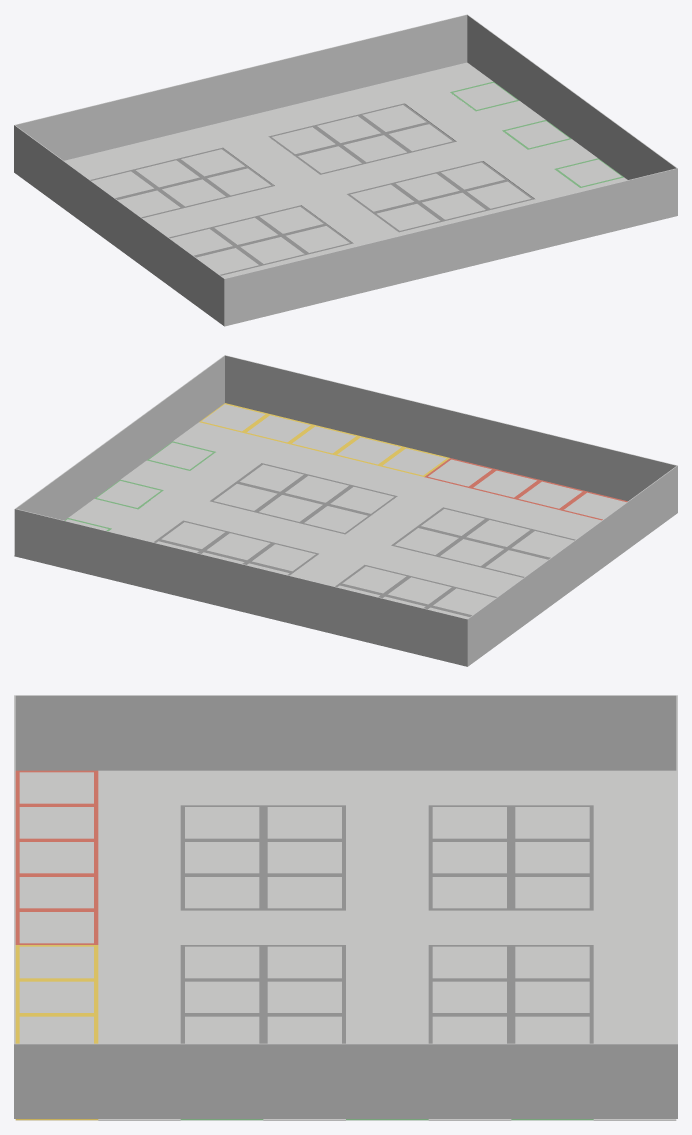
File: updated_warehouse.dae
The picture shows the model from 3 angles, top to bottom: view 1: azimuth 30°, elevation 25°; view 2: azimuth 150°, elevation 25°; view 3: azimuth 270°, elevation 25°; orthographic projection. The views are drawn at different scales.
Parts seen in each view (by area): view 1: Body2, Body1, Body3, Body4, Body6, Body5, Body8, Body13, Body15, Body17, Body19, Body27 (+21 smaller); view 2: Body2, Body1, Body4, Body6, Body32, Body3, Body31, Body5, Body25, Body7, Body9, Body16 (+25 smaller); view 3: Body2, Body1, Body5, Body6, Body3, Body31, Body4, Body22, Body8, Body10, Body20, Body46 (+28 smaller).
Boxes of the visible parts, x1,y1,x2,y2 form: Body2: (14, 14, 677, 326); Body1: (64, 62, 627, 278); Body3: (268, 103, 455, 174); Body4: (347, 161, 534, 232); Body6: (169, 205, 353, 275); Body5: (90, 147, 274, 218); Body8: (377, 204, 440, 230); Body13: (181, 149, 244, 176); Body15: (343, 135, 406, 162); Body17: (286, 226, 349, 252); Body19: (214, 217, 277, 244); Body27: (389, 124, 452, 151); Body2: (14, 355, 677, 666); Body1: (14, 422, 601, 596); Body4: (210, 463, 397, 534); Body6: (391, 507, 575, 577); Body32: (199, 403, 449, 476); Body3: (154, 520, 318, 575); Body31: (424, 458, 627, 520); Body5: (335, 565, 496, 616); Body25: (342, 566, 406, 593); Body7: (466, 520, 529, 546); Body9: (240, 464, 303, 491); Body16: (285, 475, 348, 502); Body2: (14, 695, 677, 1118); Body1: (98, 770, 676, 1120); Body5: (428, 805, 593, 910); Body6: (180, 805, 345, 910); Body3: (428, 945, 593, 1043); Body31: (15, 770, 98, 944); Body4: (180, 945, 345, 1043); Body22: (515, 946, 589, 978); Body8: (185, 946, 259, 978); Body10: (432, 946, 506, 978); Body20: (267, 946, 341, 978); Body46: (19, 946, 93, 978).
Size of the model in its own units: 10.03 by 8.04 by 1.01.
